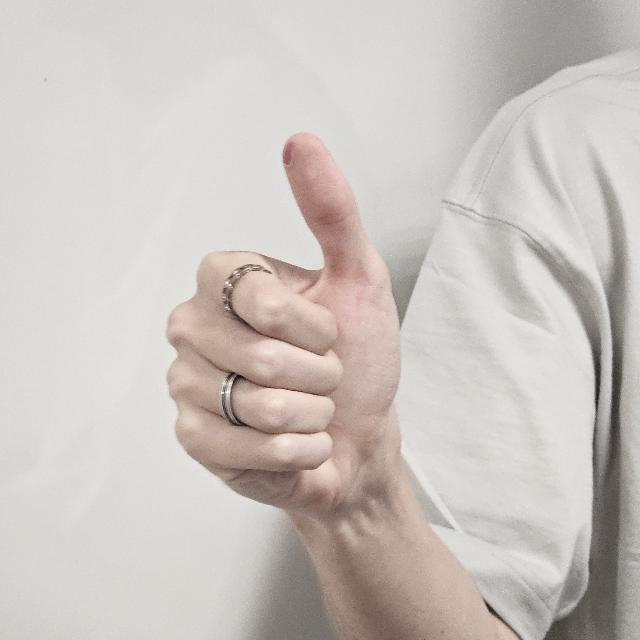Start: (160, 129, 410, 536)
